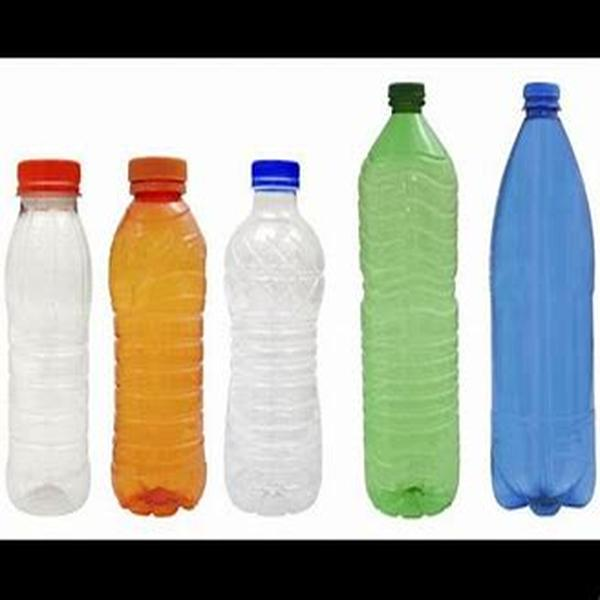tutuma: (480, 73, 600, 532), (353, 78, 463, 522), (107, 142, 209, 516), (223, 149, 327, 515), (1, 143, 94, 529)
